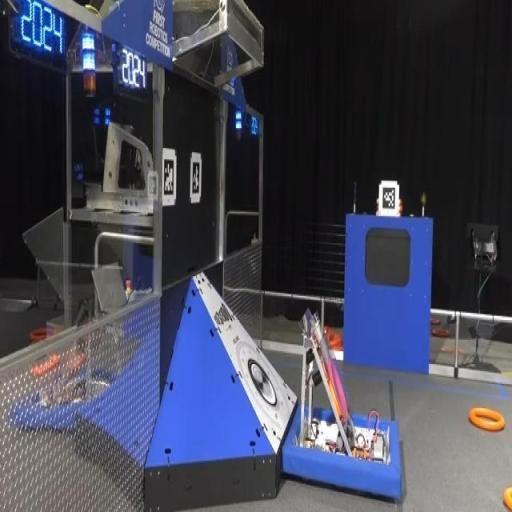robot: (280, 307, 404, 502)
